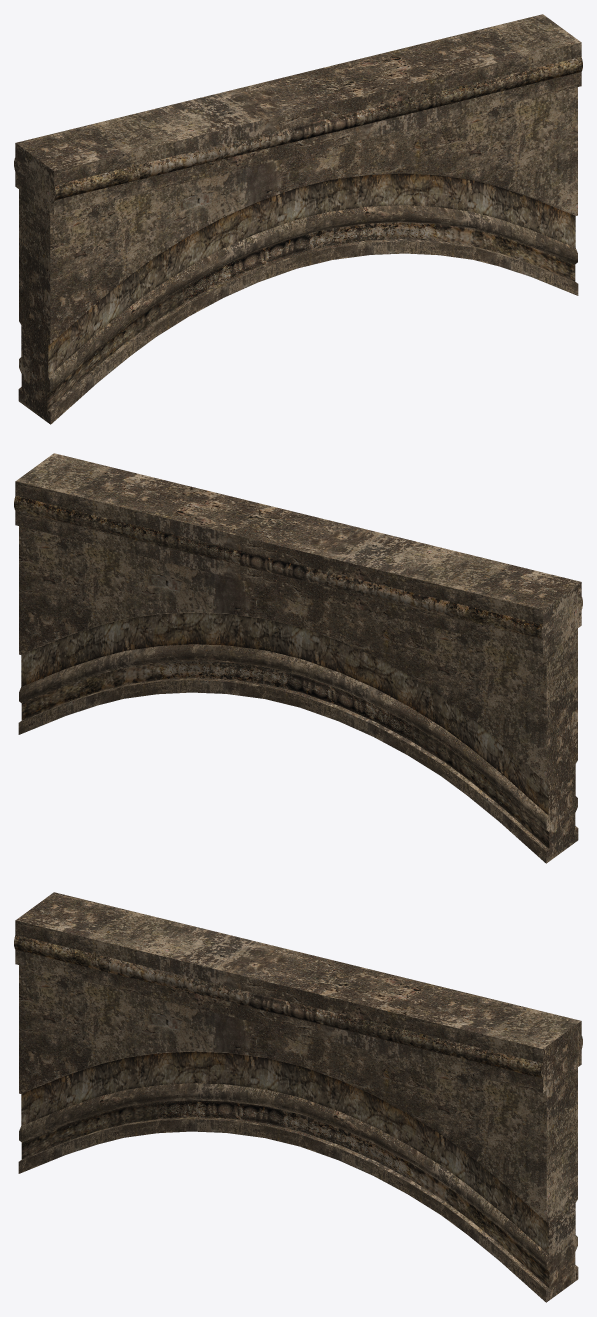
The model's file is materials_5_arch_10.fbx.
3 renders of one model, top to bottom at view 1: azimuth 30°, elevation 25°; view 2: azimuth 150°, elevation 25°; view 3: azimuth 330°, elevation 25°, orthographic.
Parts seen in each view (by area): view 1: materials_5_arch_10; view 2: materials_5_arch_10; view 3: materials_5_arch_10.
Part boxes in pixels (x1=…): materials_5_arch_10: x1=14, y1=14, x2=582, y2=424; materials_5_arch_10: x1=14, y1=453, x2=582, y2=863; materials_5_arch_10: x1=14, y1=892, x2=582, y2=1302.
Bounding box in the file's own units: 157 × 72.88 × 21.48.
